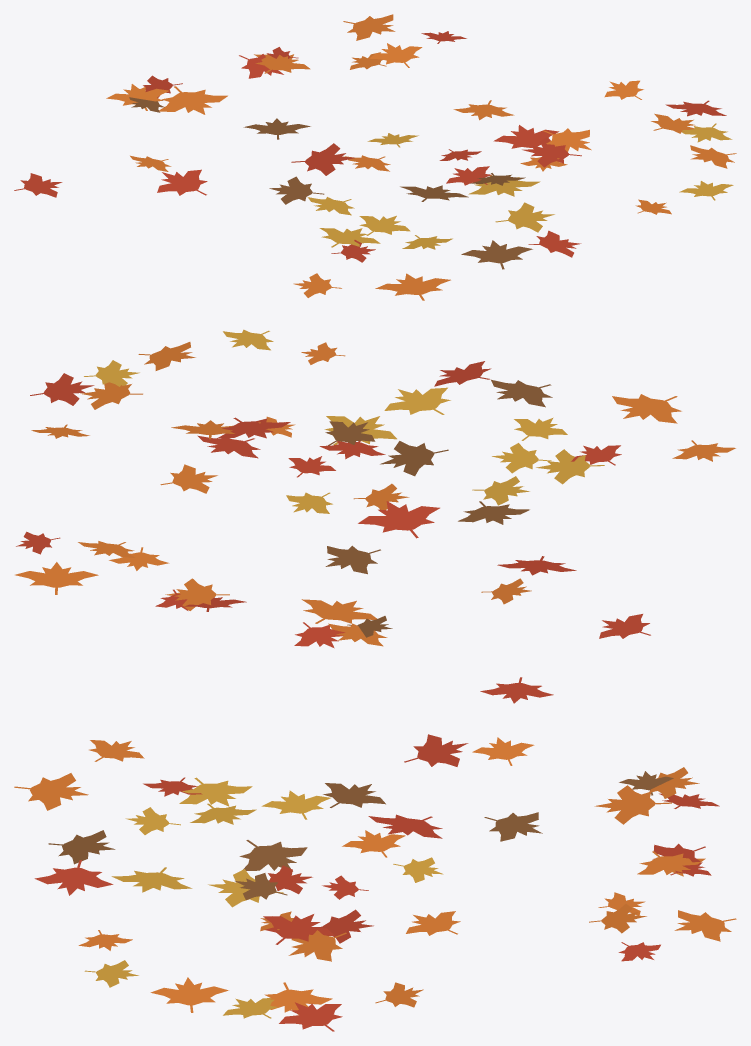
File: leaves.glb
3 views of the same model, one above another, from view 1: azimuth 30°, elevation 25°; view 2: azimuth 150°, elevation 25°; view 3: azimuth 270°, elevation 25° (orthographic). The views are drawn at different scales.
Visible parts, largest first — view 1: leaves; view 2: leaves; view 3: leaves.
Boxes of the visible parts, x1,y1,x2,y2 form: leaves: [14, 14, 736, 300]; leaves: [15, 329, 735, 648]; leaves: [14, 677, 736, 1031].
Size of the model in its own units: 5.02 by 0.0744 by 4.35.
